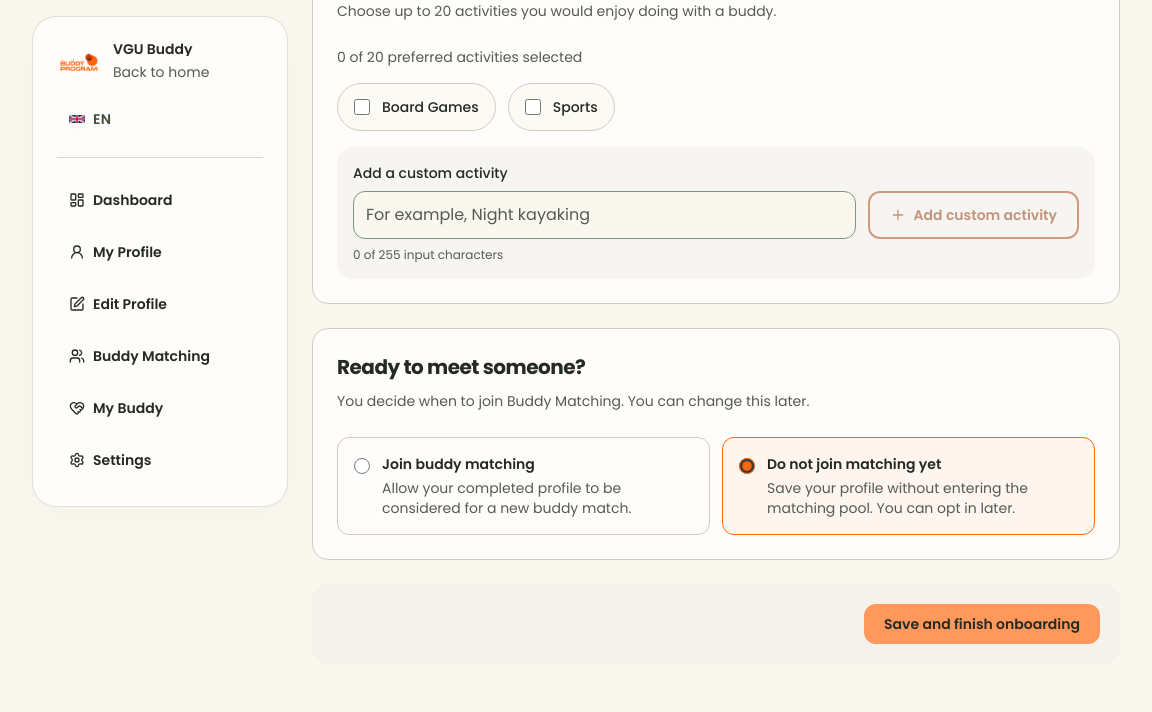
FE-027 and PREF-004 availability and activity editor › keeps Activity optional and omits the preference write when only profile settings change
(page scrolled)
Check: the checkbox labelled "Board Games" is not checked, box [354,99,370,115]
Click the button "Save and finish onboarding" at (982, 624), box [864,604,1100,644]
(page scrolled)
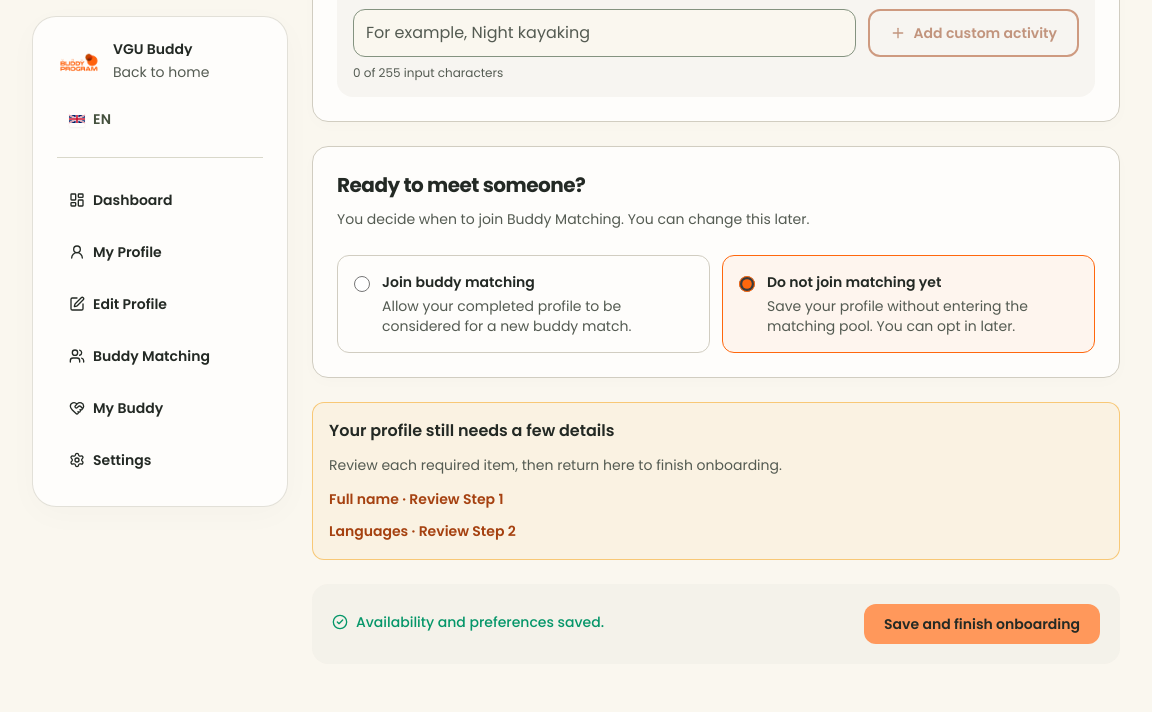
Check: the text "Your profile still needs a few details" is shown, box [329,419,614,442]
